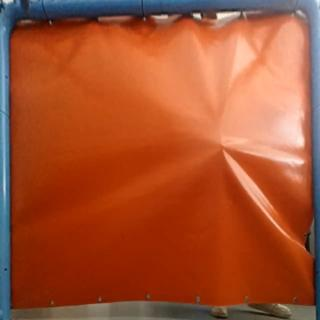Hit-hRxx: (212, 139, 230, 154)
